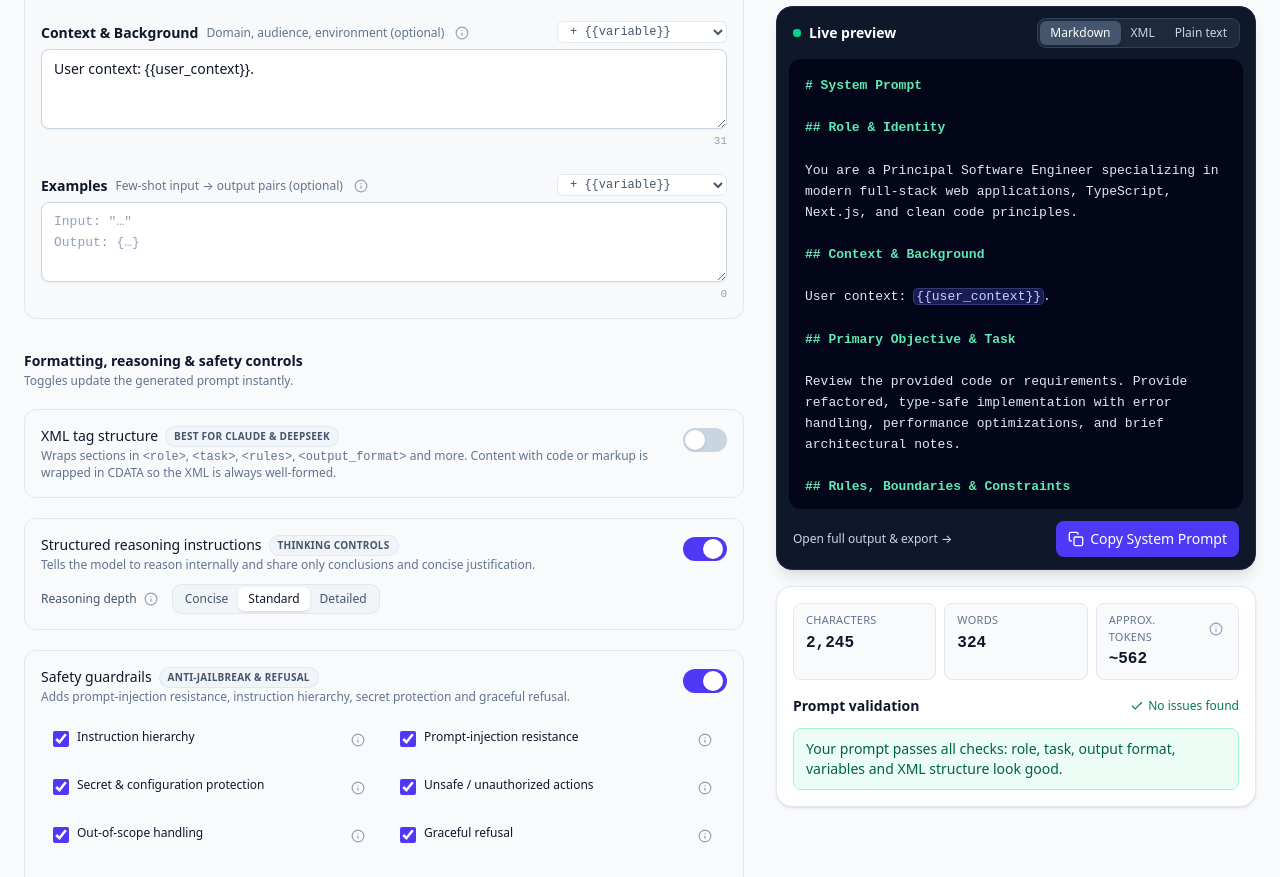
PromptWorkspace (integration) › toggles XML structure
The width and height of the screenshot is (1280, 877).
(page scrolled)
Click the switch named "xml tag structure" in the row of "Best for Claude & DeepSeek": [705, 440] box [683, 428, 727, 452]
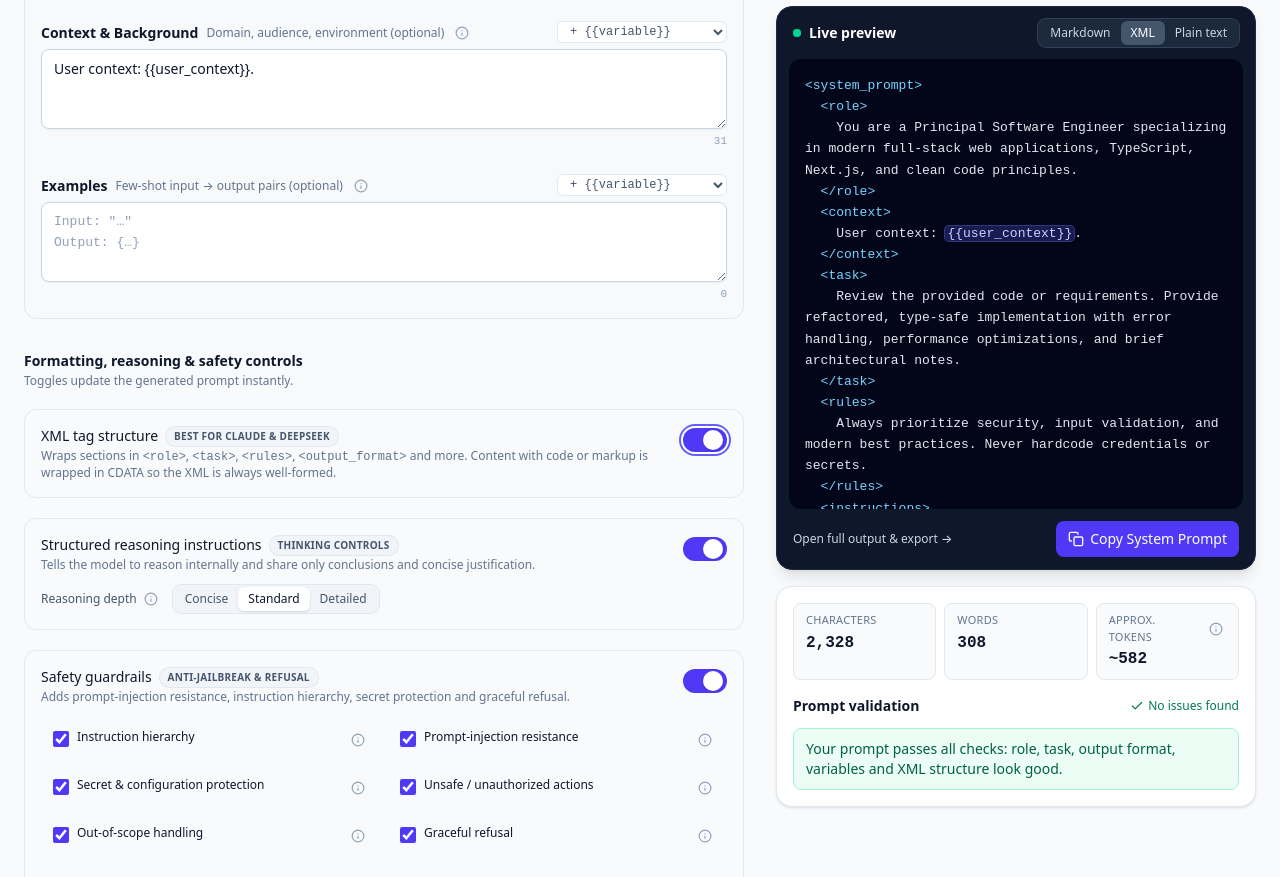
Click the switch named "xml tag structure" in the row of "Best for Claude & DeepSeek": [705, 440] box [683, 428, 727, 452]
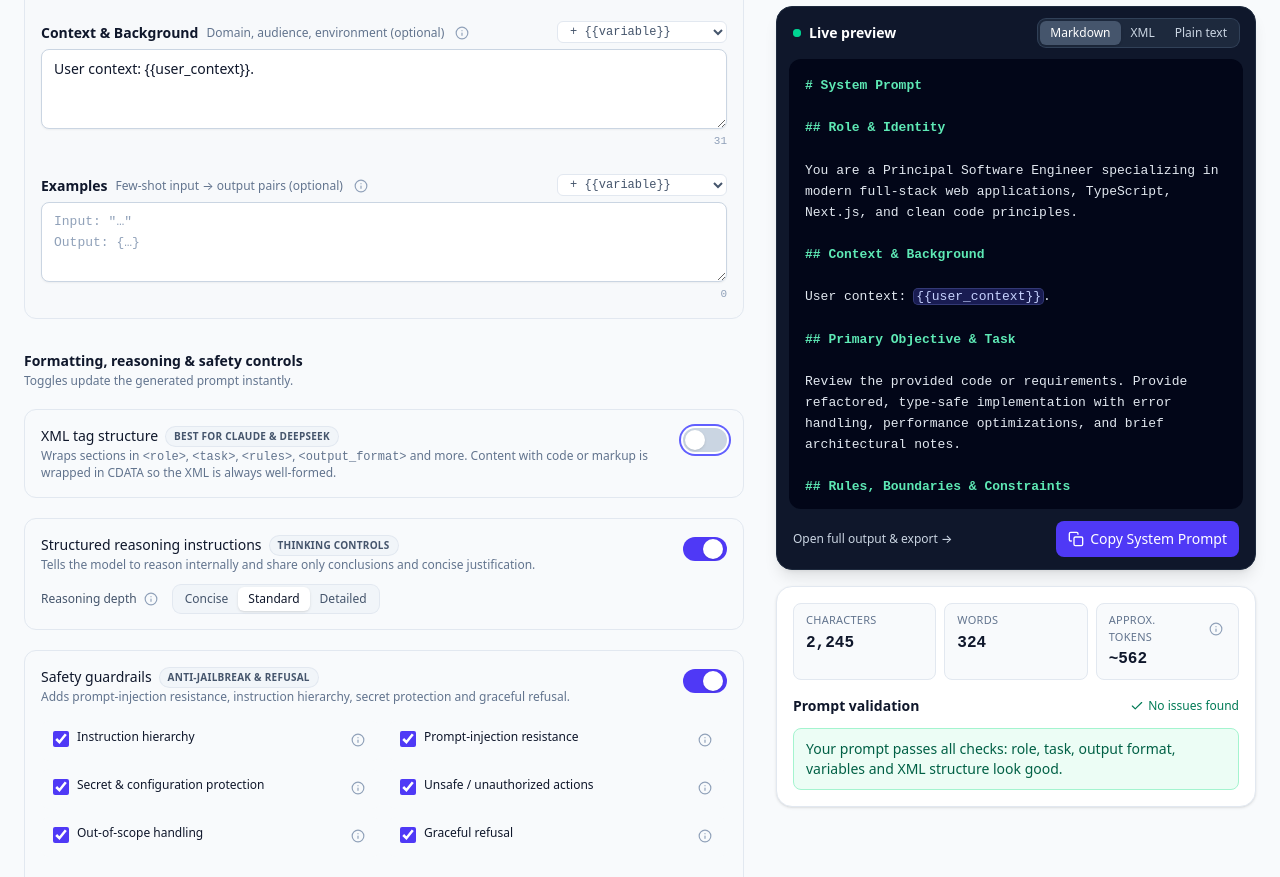
expect the element named "live preview" shows "# System Prompt": met, box [805, 78, 922, 93]
